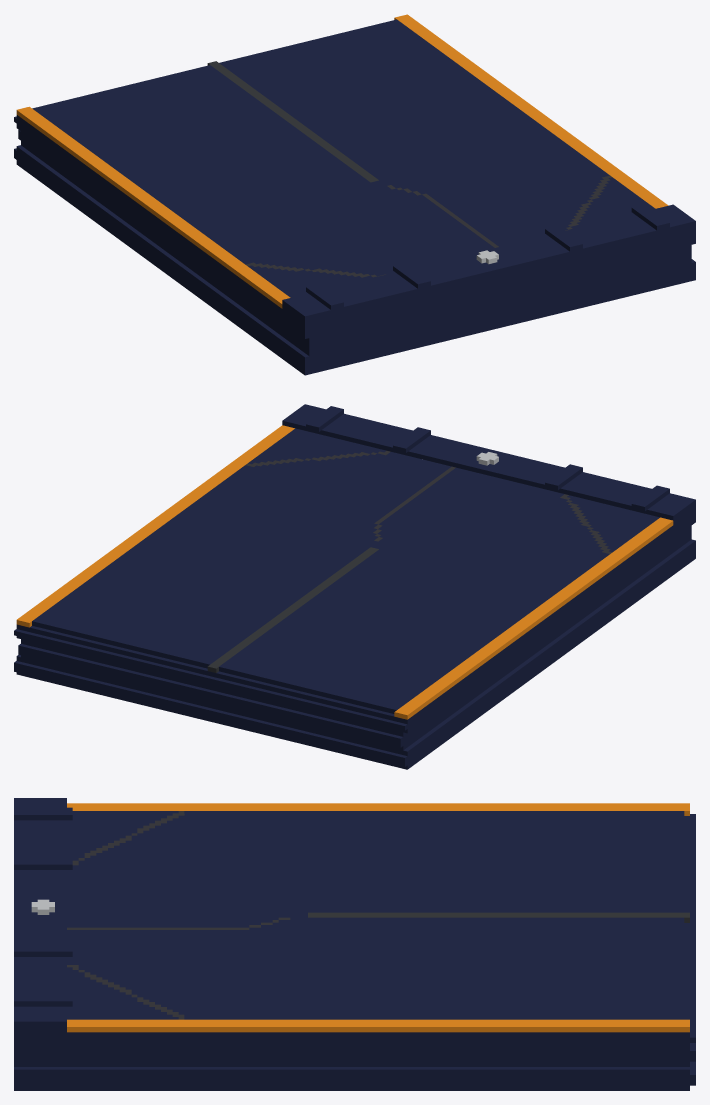
Rendered from police_breeches.glb.
3 views of the same model, one above another, from view 1: azimuth 30°, elevation 25°; view 2: azimuth 150°, elevation 25°; view 3: azimuth 270°, elevation 25° (orthographic). The views are drawn at different scales.
Visible parts, largest first — view 1: police_breeches:compound; view 2: police_breeches:compound; view 3: police_breeches:compound.
Part boxes in pixels (bbox=[...]): police_breeches:compound: bbox=[14, 14, 695, 375]; police_breeches:compound: bbox=[14, 404, 695, 769]; police_breeches:compound: bbox=[14, 798, 695, 1090].
Size of the model in its own units: 0.36 by 0.056 by 0.464.
